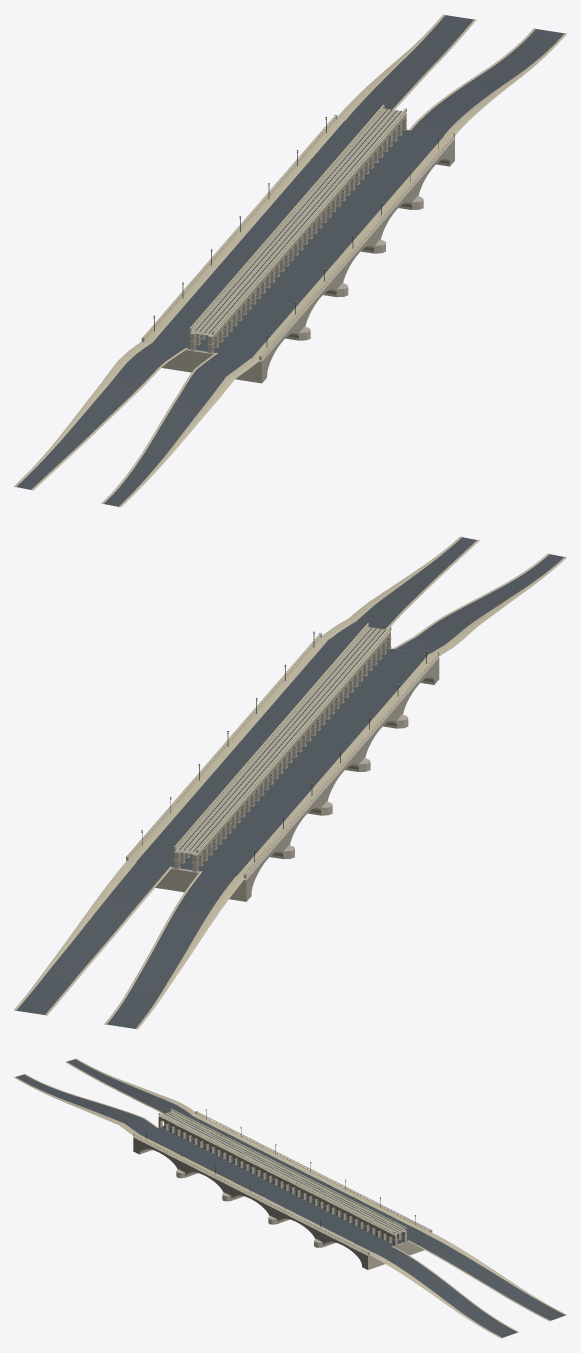
File: pont-de-bercy-far.glb
3 views of the same model, one above another, from view 1: azimuth 30°, elevation 25°; view 2: azimuth 210°, elevation 25°; view 3: azimuth 270°, elevation 25° (orthographic). The views are drawn at different scales.
Parts seen in each view (by area): view 1: pont-de-bercy-0-asphalt, pont-de-bercy-0-trim, pont-de-bercy-0-arcade, pont-de-bercy-0-stone, pont-de-bercy-0-metro, pont-de-bercy-0-rail; view 2: pont-de-bercy-0-asphalt, pont-de-bercy-0-trim, pont-de-bercy-0-arcade, pont-de-bercy-0-stone, pont-de-bercy-0-metro, pont-de-bercy-0-rail; view 3: pont-de-bercy-0-asphalt, pont-de-bercy-0-trim, pont-de-bercy-0-arcade, pont-de-bercy-0-stone, pont-de-bercy-0-metro, pont-de-bercy-0-rail.
Boxes of the visible parts, x1,y1,x2,y2 form: pont-de-bercy-0-asphalt: (16,15,563,506); pont-de-bercy-0-trim: (14,14,566,507); pont-de-bercy-0-arcade: (189,108,407,353); pont-de-bercy-0-stone: (162,137,455,383); pont-de-bercy-0-metro: (189,104,406,334); pont-de-bercy-0-rail: (195,109,401,333); pont-de-bercy-0-asphalt: (16,537,563,1028); pont-de-bercy-0-trim: (14,536,566,1029); pont-de-bercy-0-arcade: (173,627,391,871); pont-de-bercy-0-stone: (155,656,439,901); pont-de-bercy-0-metro: (174,623,391,852); pont-de-bercy-0-rail: (179,627,385,851); pont-de-bercy-0-asphalt: (16,1059,565,1337); pont-de-bercy-0-trim: (14,1058,566,1338); pont-de-bercy-0-arcade: (158,1111,407,1246); pont-de-bercy-0-stone: (133,1136,424,1269); pont-de-bercy-0-metro: (158,1108,406,1233); pont-de-bercy-0-rail: (164,1111,403,1232).
Size of the model in its own units: 316 by 15.43 by 264.
